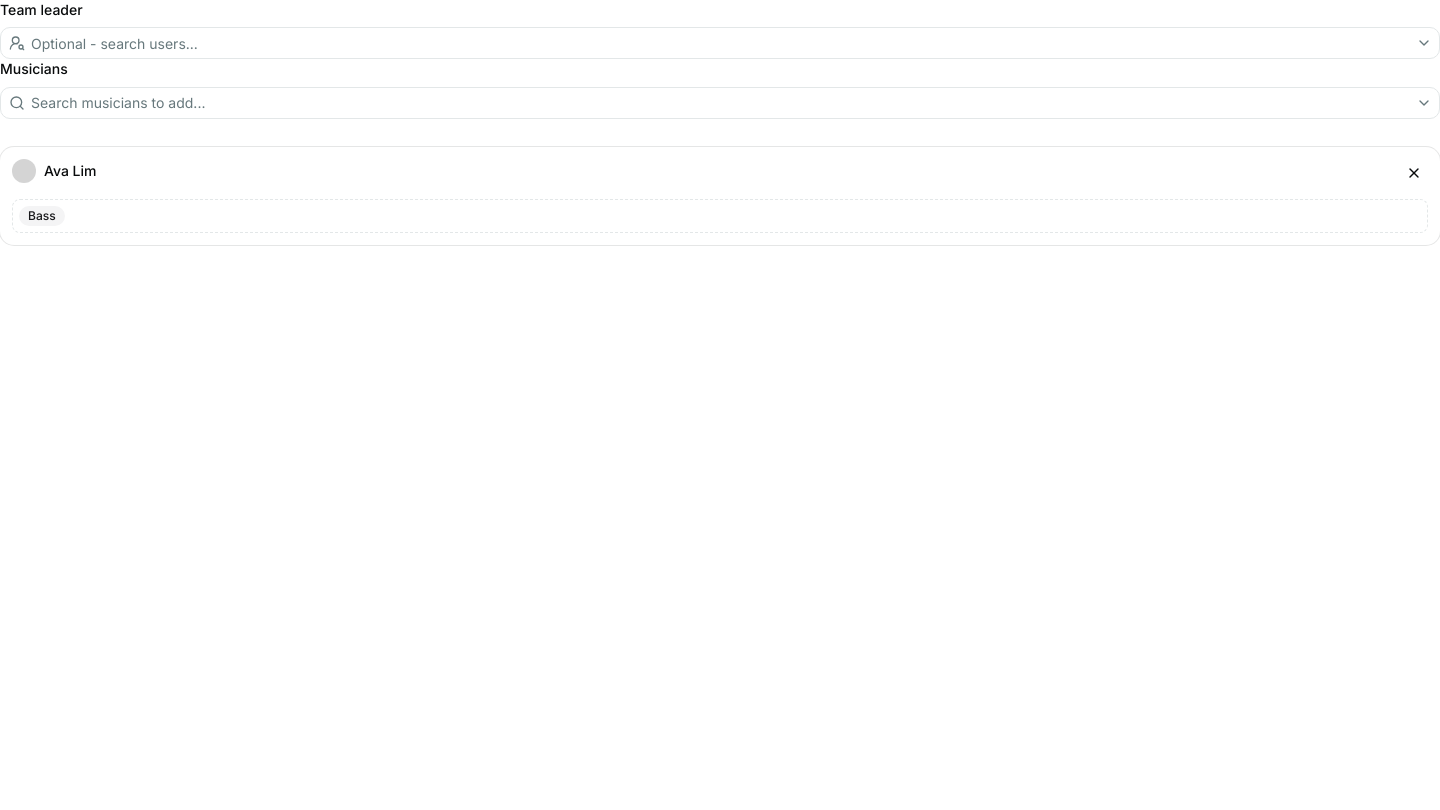
TeamMembershipFields › toggles an instrument off for a musician already holding it
Click the button "Bass".
click(42, 216)  # box [12,198,1428,232]
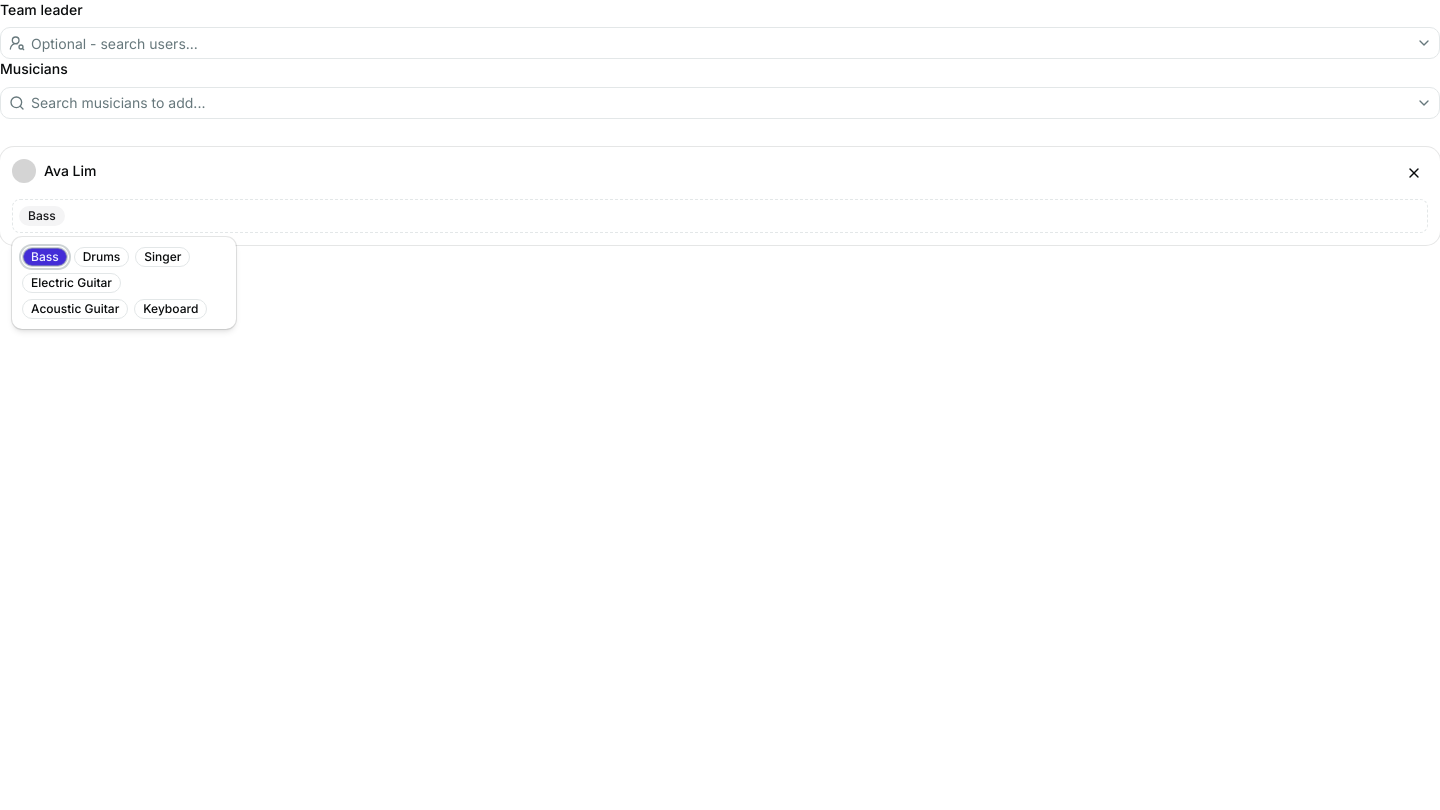
Click the 2nd button "Bass".
click(45, 257)  # box [22,247,68,267]
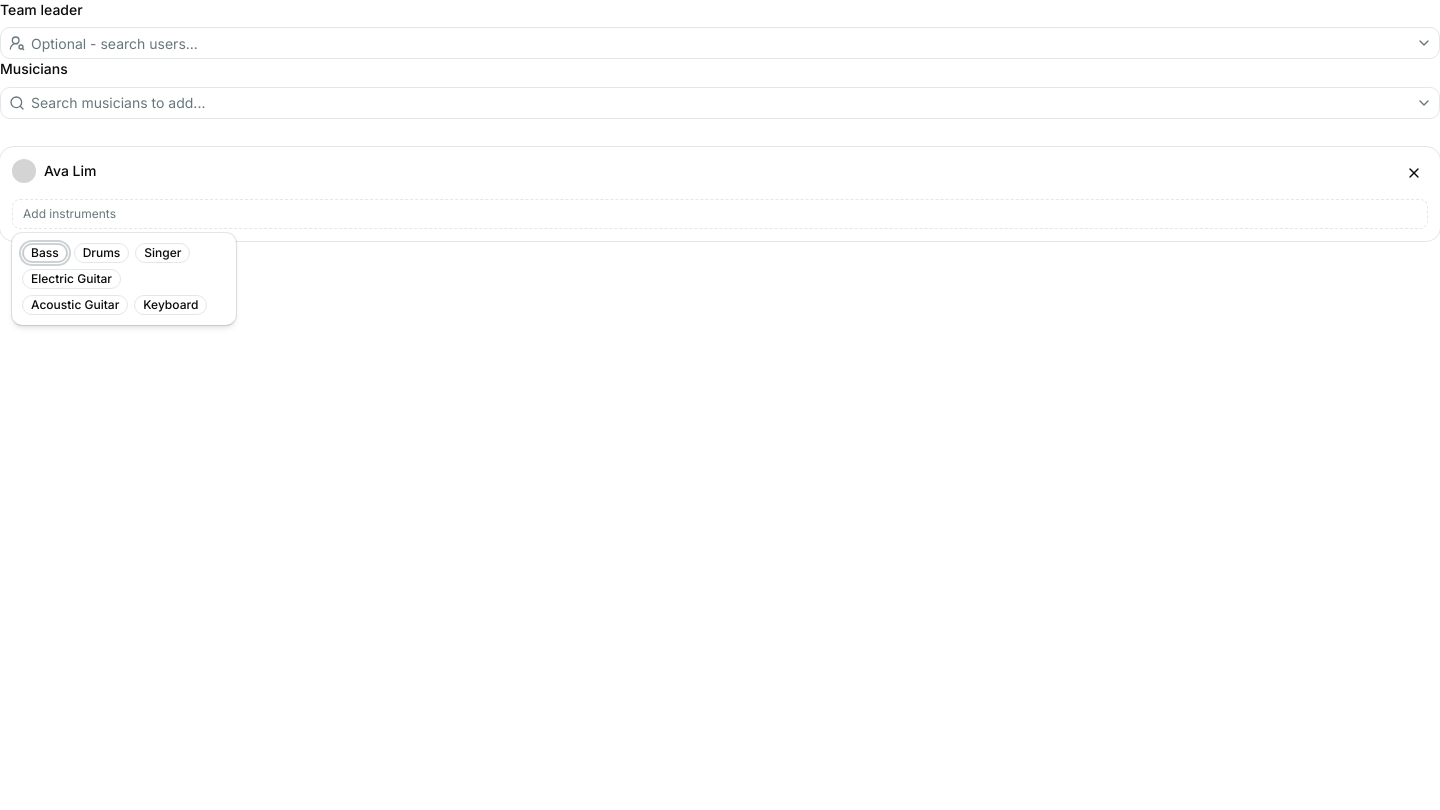
Check: the text "Add instruments" is shown, box [19,206,120,222]
